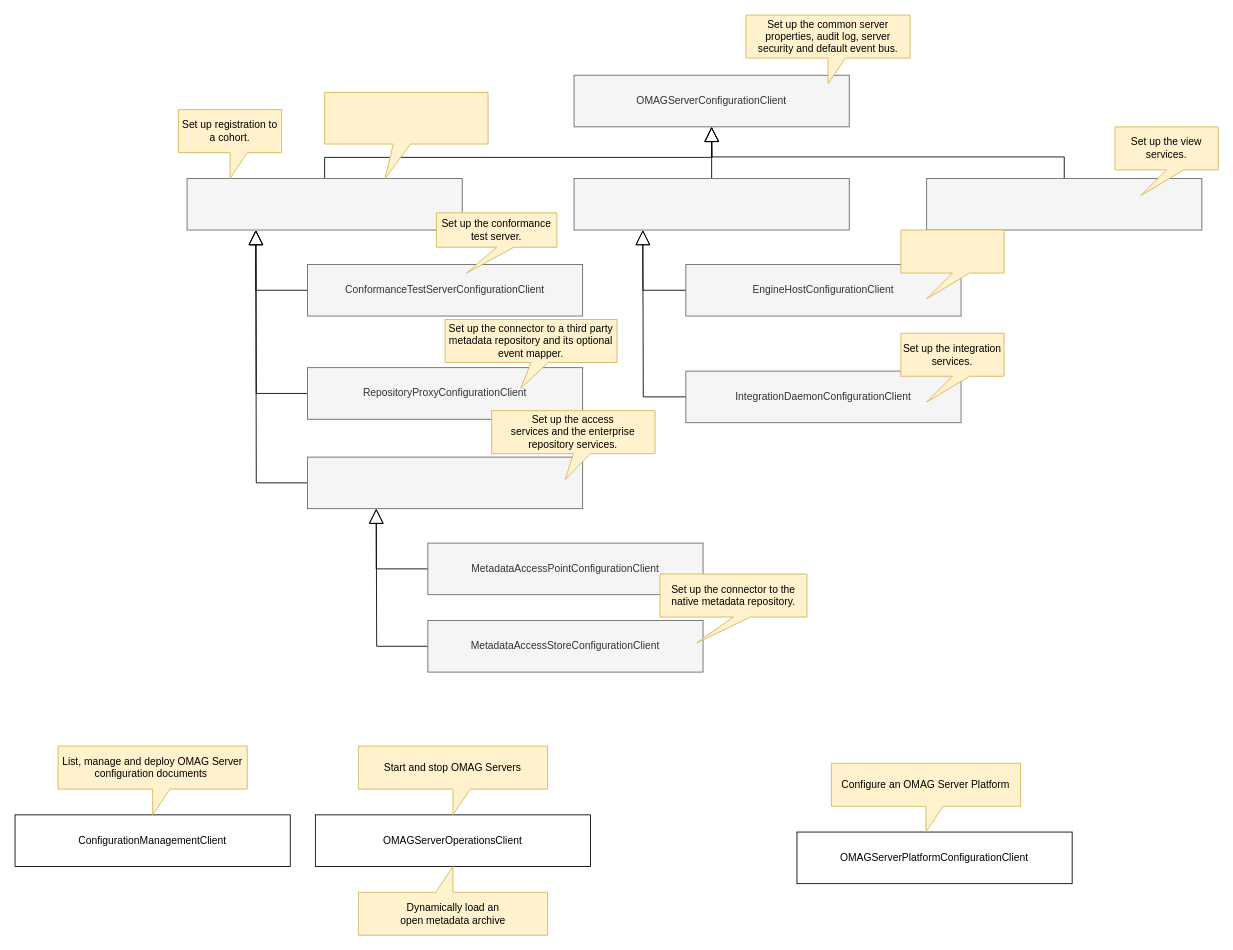
Some shapes in this 1233 by 950 pixel diagram are drawn without their labels. Each missing label, with the centre of its shape:
"CohortMemberConfigurationClient" belongs at pixel 324 204.
"Configure open metadata archives that should be loaded at server start up." belongs at pixel 406 135.
"GovernanceServerConfigurationClient" belongs at pixel 711 204.
"MetadataAccessServerConfigurationClient" belongs at pixel 445 482.
"Set up the engine services." belongs at pixel 952 264.
"ViewServerConfigurationClient" belongs at pixel 1064 204.
